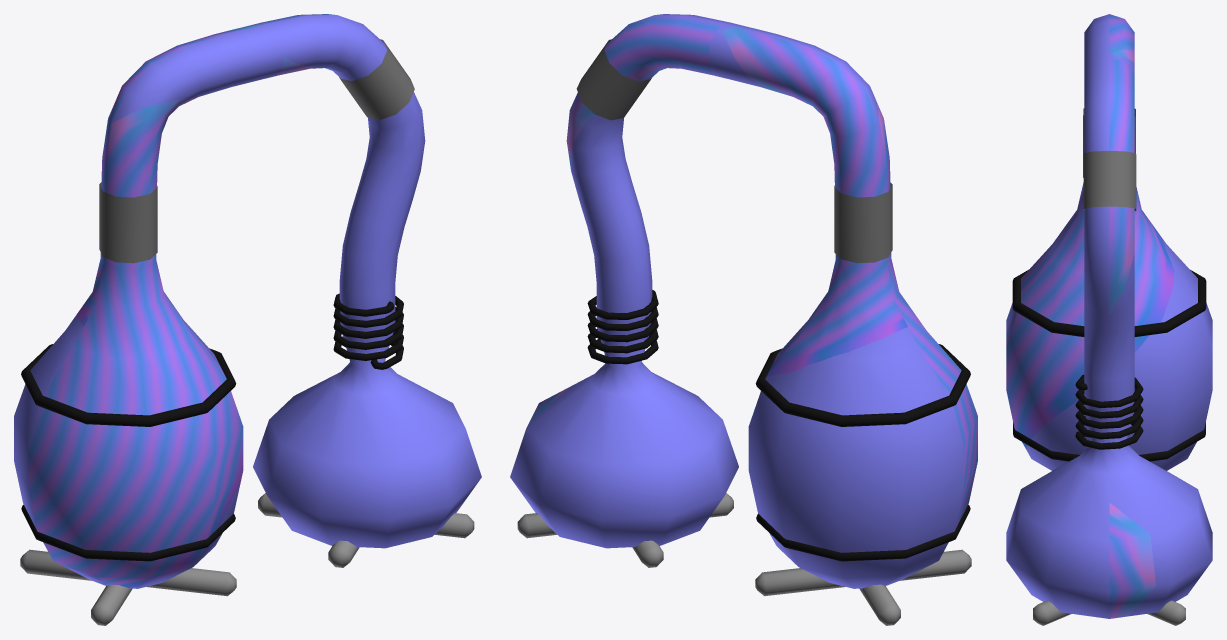
The model's file is ALAMBICCO.fbx.
The picture shows the model from 3 angles, left to right: view 1: azimuth 30°, elevation 25°; view 2: azimuth 150°, elevation 25°; view 3: azimuth 270°, elevation 25°; orthographic projection. The views are drawn at different scales.
Visible parts, largest first — view 1: LP STRUTT, Circle.003, Circle.004, Cube.002, HP.002; view 2: LP STRUTT, Circle.003, Circle.004, Cube.002, HP.002; view 3: LP STRUTT, Circle.004, Circle.003, HP.002, Cube.002.
Part boxes in pixels (x1,y1,x2,y2): LP STRUTT: (14, 14, 481, 588); Circle.003: (99, 39, 414, 263); Circle.004: (21, 344, 236, 561); Cube.002: (20, 493, 474, 625); HP.002: (333, 293, 403, 369); LP STRUTT: (510, 14, 977, 588); Circle.003: (576, 39, 892, 263); Circle.004: (755, 344, 970, 561); Cube.002: (517, 493, 971, 625); HP.002: (587, 290, 658, 364); LP STRUTT: (1006, 14, 1212, 618); Circle.004: (1012, 269, 1206, 461); Circle.003: (1083, 108, 1136, 210); HP.002: (1075, 374, 1143, 449); Cube.002: (1033, 600, 1185, 625).
Size of the model in its own units: 882 by 1010 by 382.
Materials: 4 (1 with a texture image).
